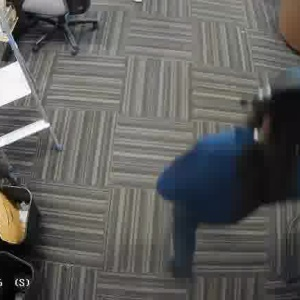person: (165, 85, 300, 236)
